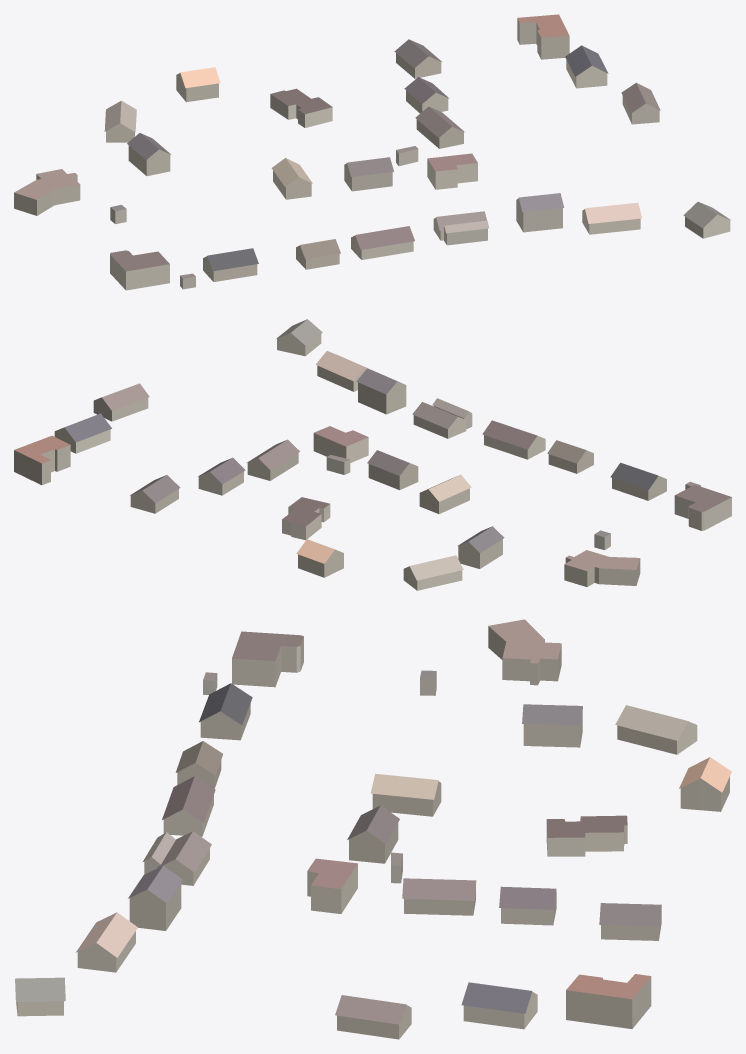
3 renders of one model, top to bottom at view 1: azimuth 30°, elevation 25°; view 2: azimuth 150°, elevation 25°; view 3: azimuth 270°, elevation 25°, orthographic. The views are drawn at different scales.
Parts seen in each view (by area): view 1: tuile; view 2: tuile; view 3: tuile.
Boxes of the visible parts, x1=… form: tuile: x1=14, y1=14, x2=730, y2=290; tuile: x1=14, y1=319, x2=731, y2=590; tuile: x1=15, y1=619, x2=731, y2=1039.
Size of the model in its own units: 197 by 14.47 by 151.
